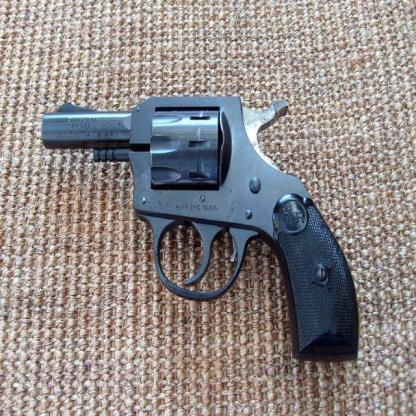weapon: (39, 95, 359, 364)
